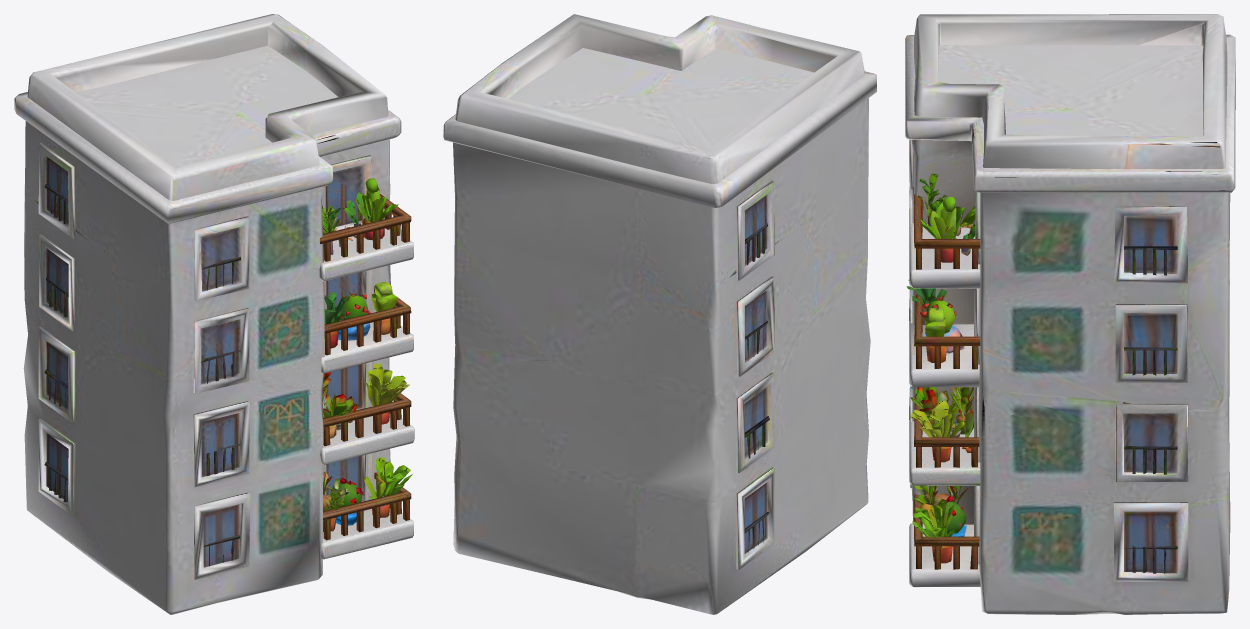
The model's file is apart.glb.
The picture shows the model from 3 angles, left to right: view 1: azimuth 30°, elevation 25°; view 2: azimuth 150°, elevation 25°; view 3: azimuth 270°, elevation 25°; orthographic projection. The views are drawn at different scales.
Parts seen in each view (by area): view 1: geometry_0; view 2: geometry_0; view 3: geometry_0.
Part boxes in pixels (x1,y1,x2,y2): geometry_0: [14, 14, 414, 614]; geometry_0: [443, 14, 876, 614]; geometry_0: [905, 14, 1235, 614].
Bounding box in the file's own units: 0.606 × 0.9517 × 0.6025.
1 material, 1 textured.
